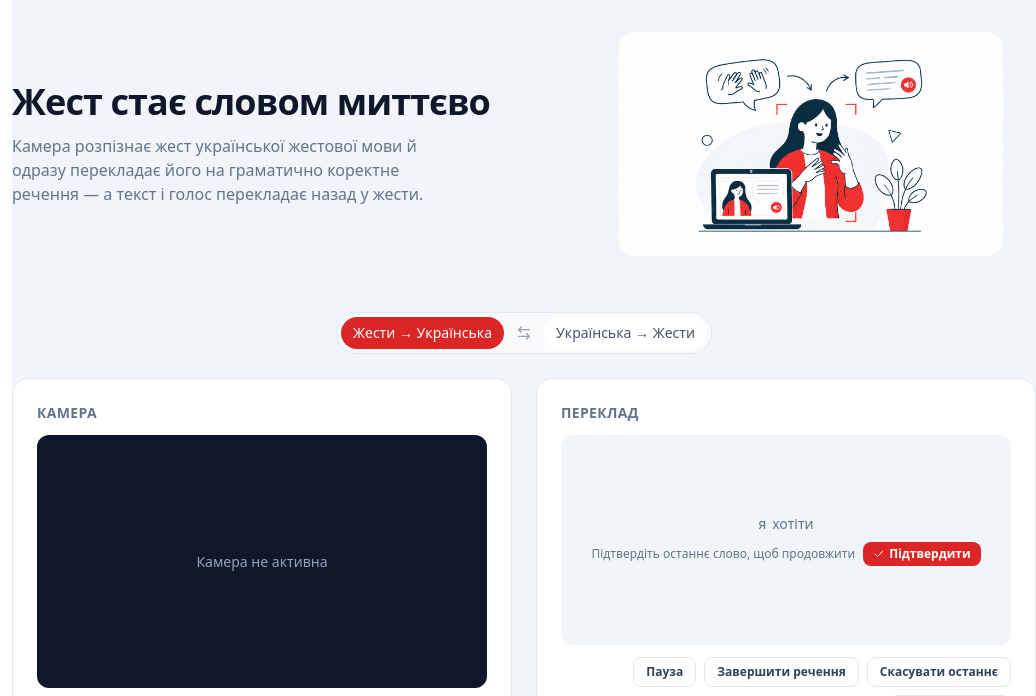
TranslatorView › 'Скасувати останнє' removes only the most recently confirmed word
Expected: the element with test id "live-sentence-status" shows "я", [758,514,766,533]
Expected: the element with test id "live-sentence-status" shows "хотіти", [772,514,814,533]
Step 1. Click the button "Скасувати останнє" → (939, 672), box [867,657,1011,687]
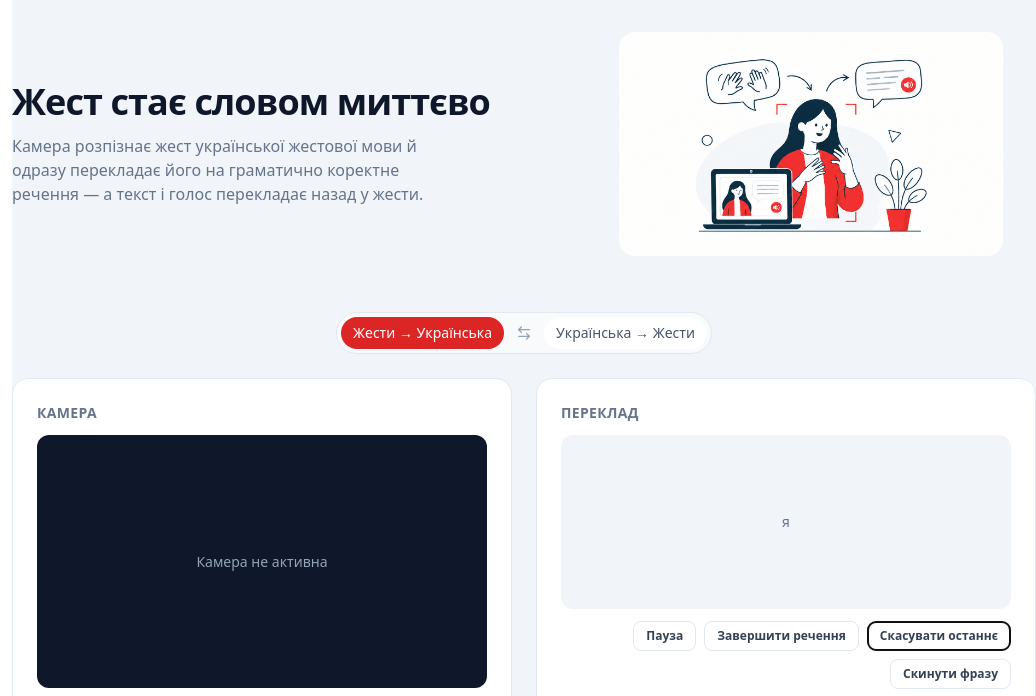
Now the element with test id "live-sentence-status" reads "я", box [782,512,790,531]
Now the text with test id "live-sentence-status" no longer shows "хотіти"
